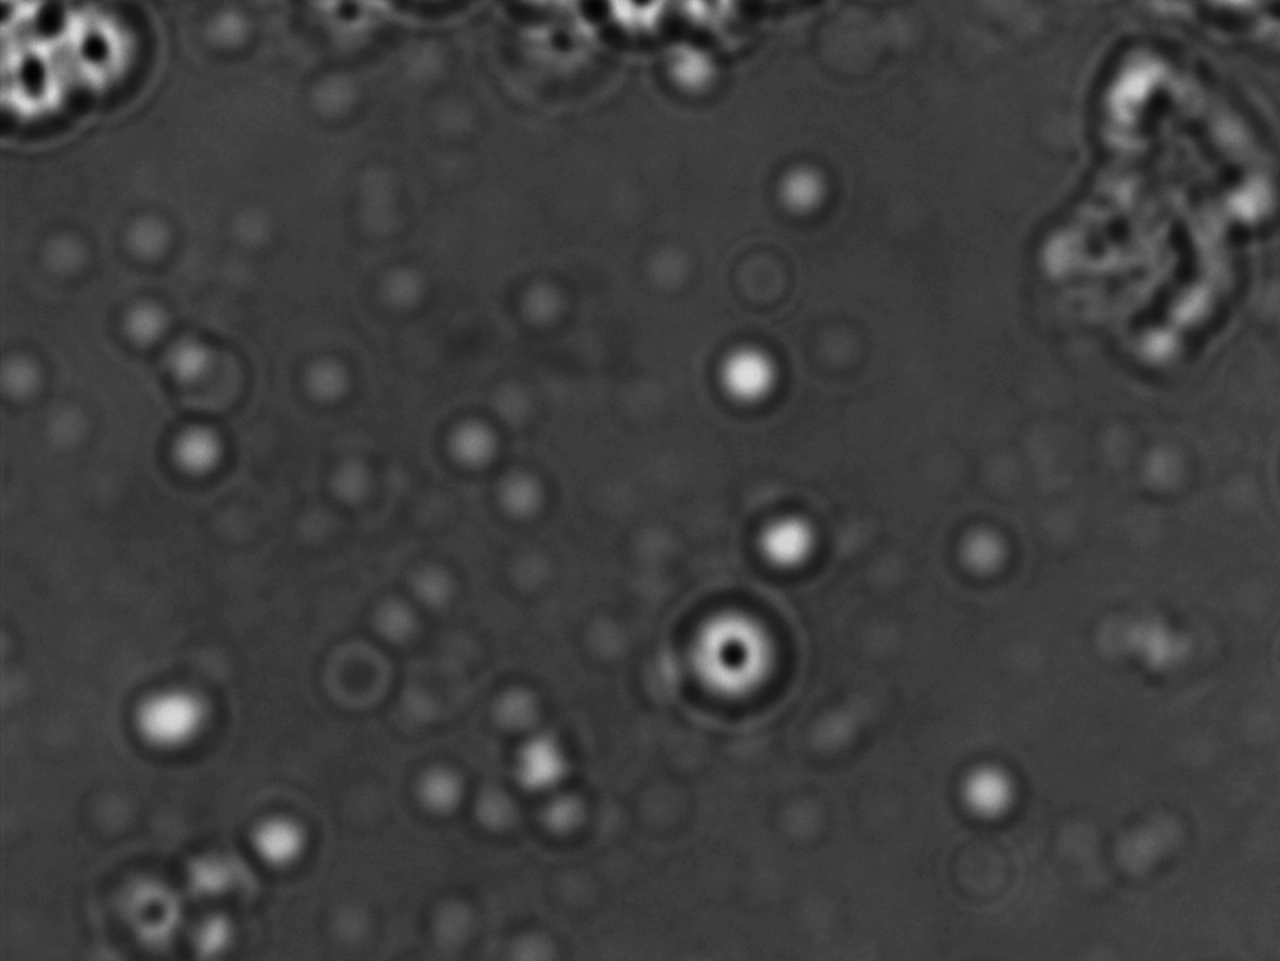depth:24: (657, 581, 808, 720)
